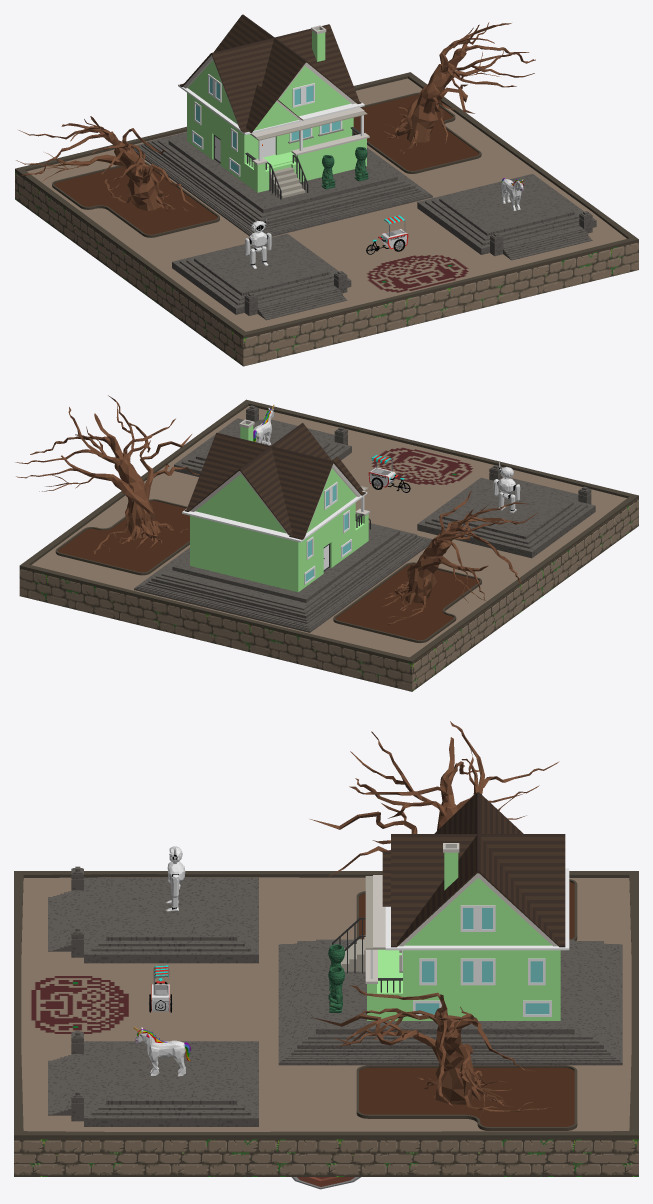
3 views of the same model, one above another, from view 1: azimuth 30°, elevation 25°; view 2: azimuth 150°, elevation 25°; view 3: azimuth 270°, elevation 25° (orthographic). The views are drawn at different scales.
Parts seen in each view (by area): view 1: Cube.011, Cube.274, OBJRANDOM_PLATZEEBOT, VEHICLES_SNOWBAL_BIKE, ANIMAL_UNICORNIO; view 2: Cube.011, Cube.274, OBJRANDOM_PLATZEEBOT, VEHICLES_SNOWBAL_BIKE, ANIMAL_UNICORNIO; view 3: Cube.011, Cube.274, ANIMAL_UNICORNIO, VEHICLES_SNOWBAL_BIKE, OBJRANDOM_PLATZEEBOT.
Part boxes in pixels (left/top/right/bottom): Cube.011: left=15, top=22, right=638, bottom=366; Cube.274: left=178, top=14, right=369, bottom=199; OBJRANDOM_PLATZEEBOT: left=245, top=216, right=271, bottom=268; VEHICLES_SNOWBAL_BIKE: left=366, top=215, right=408, bottom=254; ANIMAL_UNICORNIO: left=501, top=178, right=523, bottom=210; Cube.011: left=15, top=395, right=638, bottom=691; Cube.274: left=182, top=419, right=370, bottom=592; OBJRANDOM_PLATZEEBOT: left=493, top=462, right=520, bottom=512; VEHICLES_SNOWBAL_BIKE: left=368, top=455, right=410, bottom=492; ANIMAL_UNICORNIO: left=253, top=405, right=274, bottom=445; Cube.011: left=14, top=721, right=638, bottom=1176; Cube.274: left=332, top=792, right=569, bottom=1020; ANIMAL_UNICORNIO: left=133, top=1026, right=190, bottom=1076; VEHICLES_SNOWBAL_BIKE: left=149, top=965, right=172, bottom=1012; OBJRANDOM_PLATZEEBOT: left=166, top=846, right=185, bottom=911.
Size of the model in its own units: 5099 by 2376 by 4000.
45 materials, 5 textured.
